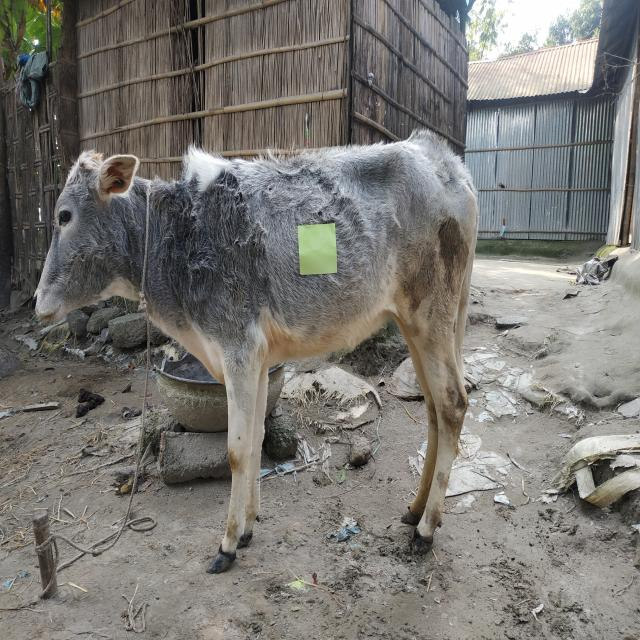badan_sapi: (198, 127, 475, 370)
sapi: (31, 121, 484, 579)
